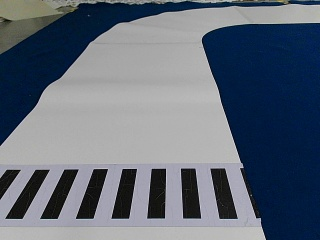crosswalk: (0, 170, 238, 220)
